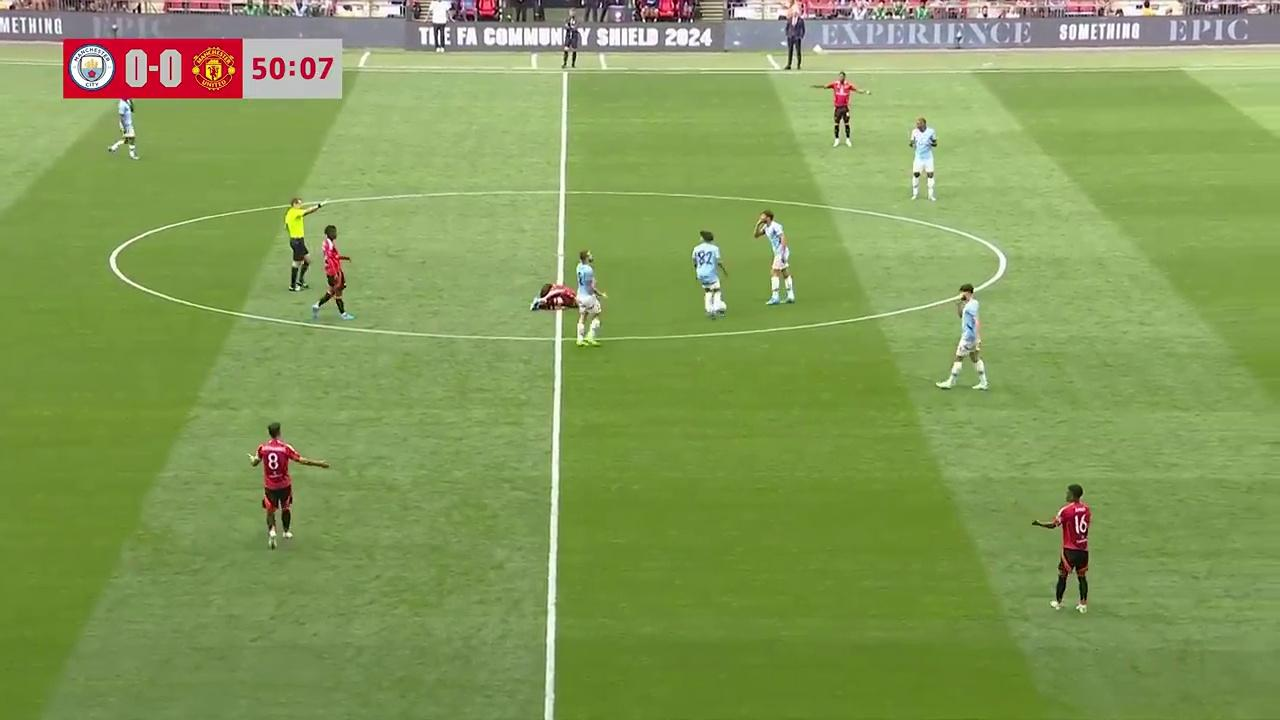ball: (717, 302, 728, 314)
player: (249, 423, 313, 548), (1037, 484, 1091, 614), (937, 284, 989, 391), (753, 209, 795, 305), (313, 226, 354, 320), (820, 71, 870, 147), (691, 229, 728, 320), (574, 250, 607, 346), (908, 116, 938, 203), (108, 93, 139, 160), (529, 274, 575, 317)
referee: (283, 196, 318, 291)
